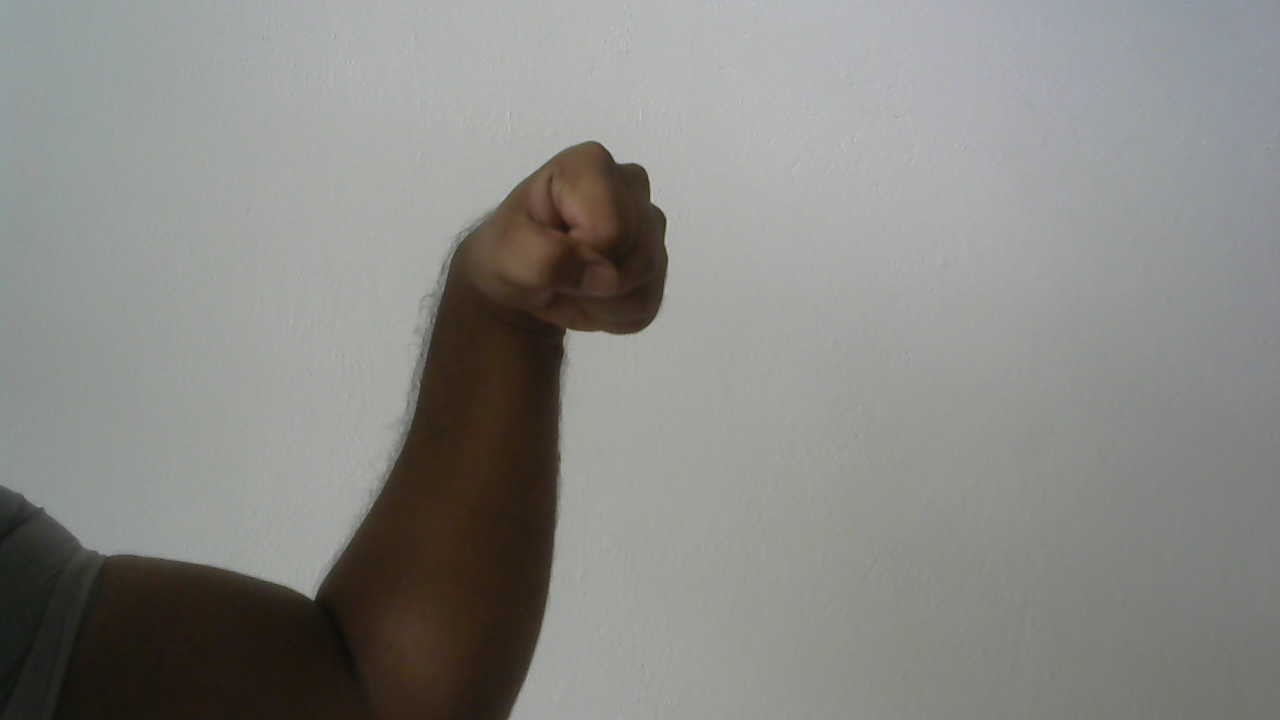yes: (408, 127, 710, 372)
